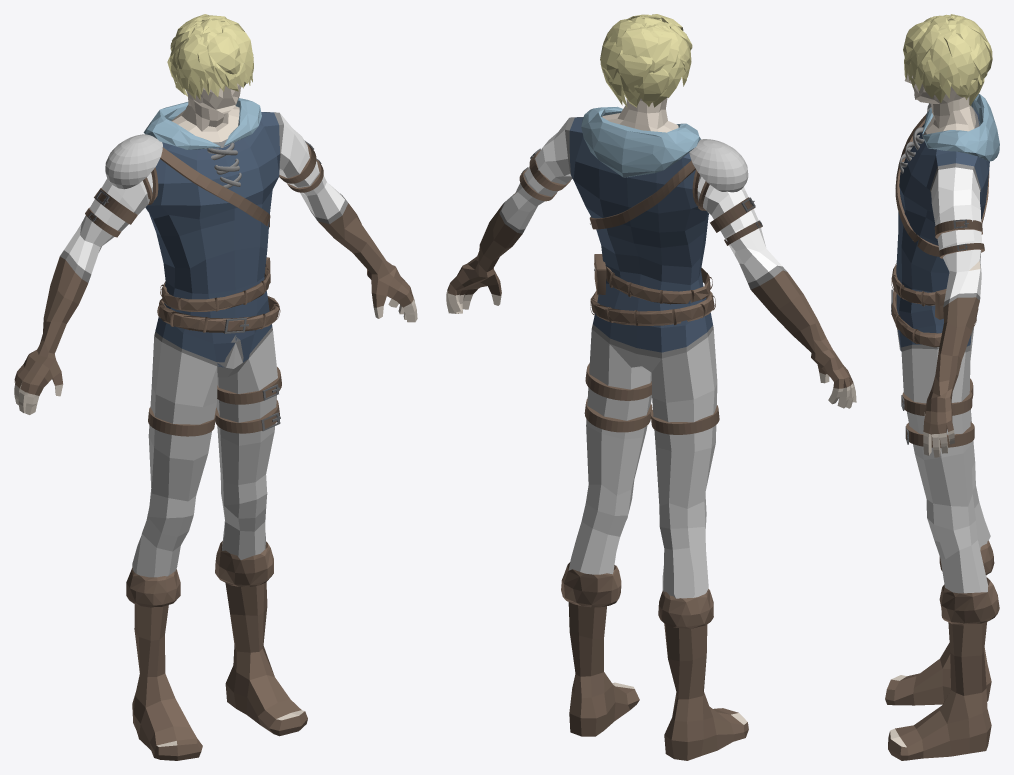
Rendered from Chracter02.fbx.
3 views of the same model, side by side, from view 1: azimuth 30°, elevation 25°; view 2: azimuth 150°, elevation 25°; view 3: azimuth 270°, elevation 25° (orthographic).
Visible parts, largest first — view 1: 00; view 2: 00; view 3: 00.
Boxes of the visible parts, left/top/right/bottom form: 00: left=14, top=14, right=417, bottom=760; 00: left=446, top=14, right=856, bottom=760; 00: left=885, top=14, right=999, bottom=760.
Bounding box in the file's own units: 9.27 × 15.81 × 2.33.
